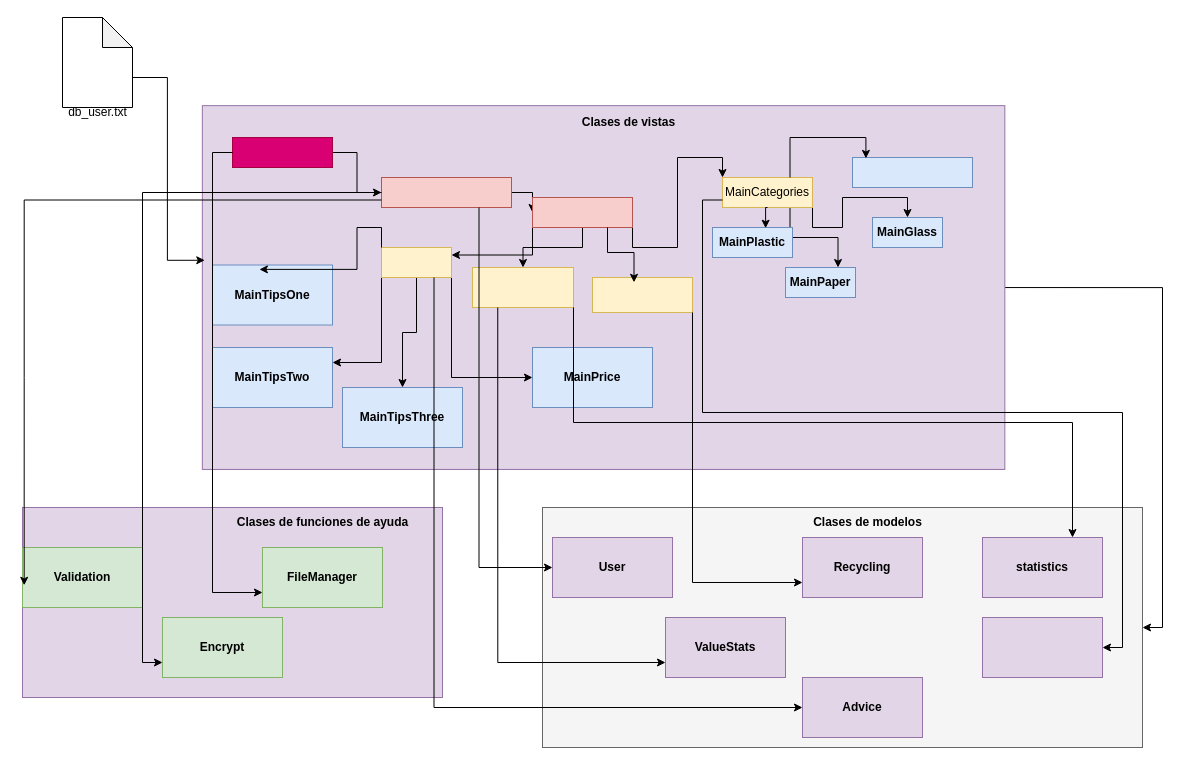
The diagram is 1189 pixels wide and 765 high, and some of its shapes have lost their labels. Each missing label, with the centre of its shape:
"MainActivity" goes at [282,152].
"MainHome" goes at [582,212].
"MainHomeRegistration" goes at [446,192].
"MainNoRecyclable" goes at [912,172].
"MainRegistration" goes at [642,294].
"MainStatistics" goes at [523,287].
"MainTips" goes at [416,262].
"Material" goes at [1042,647].
